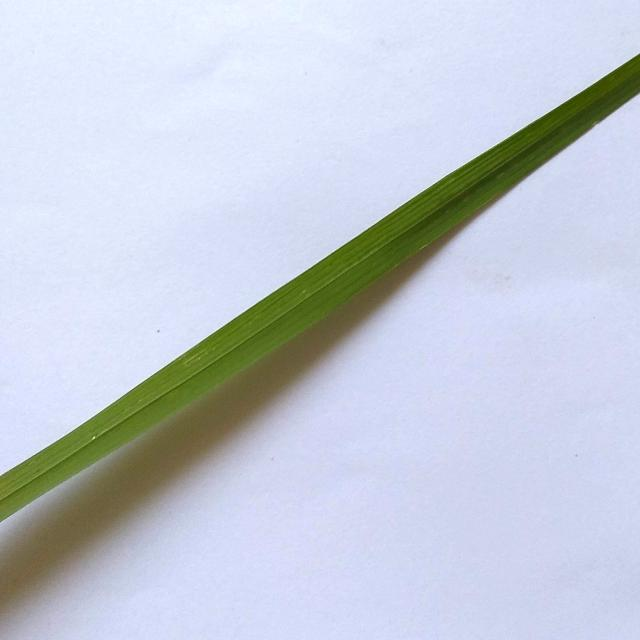Rice_Healthy: (0, 54, 640, 521)
